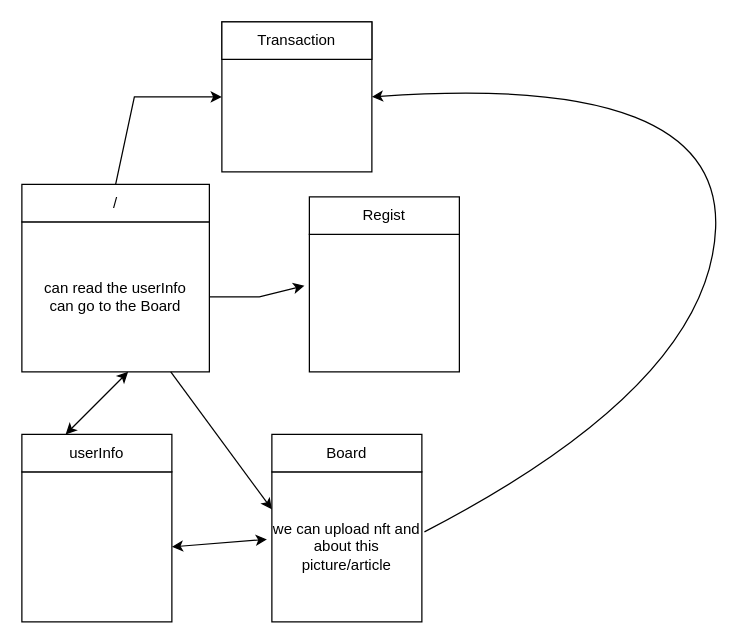
Some shapes in this 739 by 644 pixel diagram are drawn without their labels. Each missing label, with the box of its shape:
can login use google acount password encrypt: (308, 233, 459, 372)
can view other payment transaction: (221, 21, 372, 172)
user can modify this information and other user's info can view: (21, 471, 172, 622)
